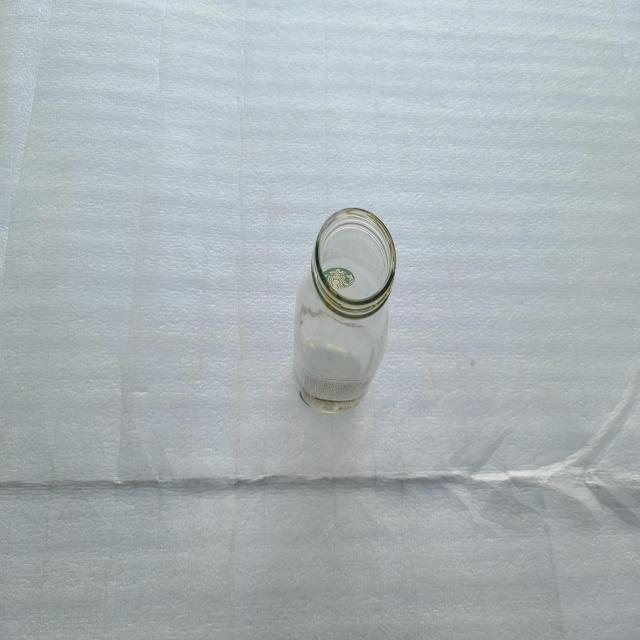glass: (293, 207, 396, 412)
